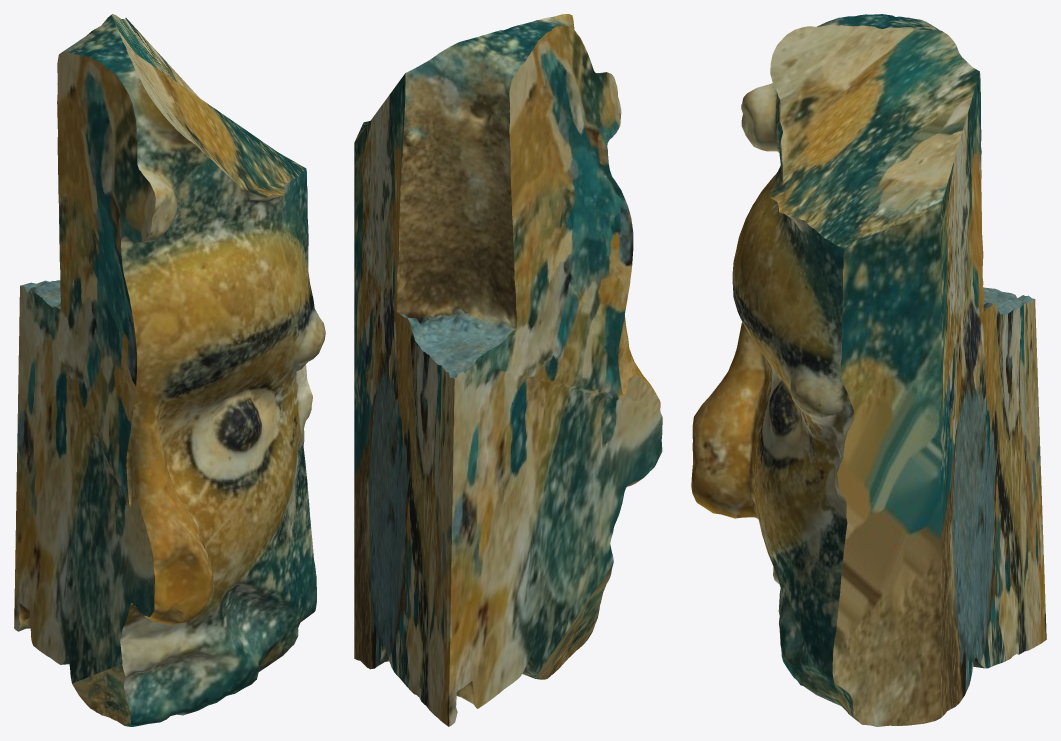
3 renders of one model, left to right at view 1: azimuth 30°, elevation 25°; view 2: azimuth 150°, elevation 25°; view 3: azimuth 270°, elevation 25°, orthographic.
Visible parts, largest first — view 1: Mesh_0.003; view 2: Mesh_0.003; view 3: Mesh_0.003.
Boxes of the visible parts, x1,y1,x2,y2 form: Mesh_0.003: (14,14,325,726); Mesh_0.003: (354,14,662,726); Mesh_0.003: (691,14,1046,726).
Size of the model in its own units: 0.043 by 0.1166 by 0.0582.
Materials: 1 (1 with a texture image).
